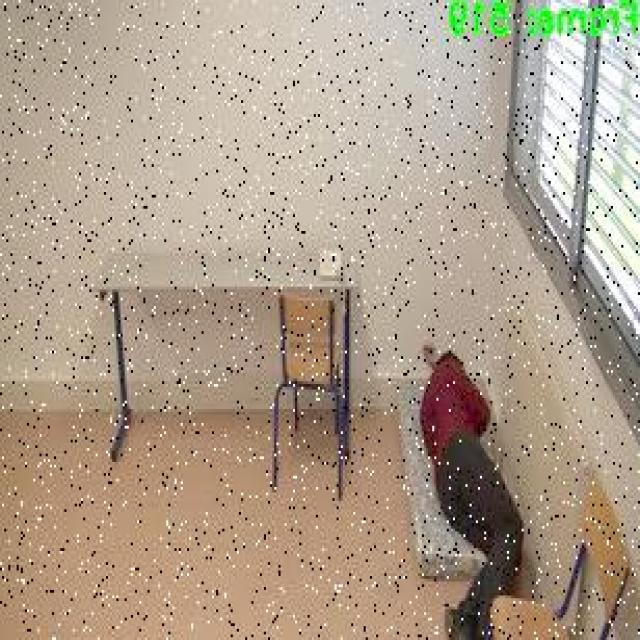fall: (413, 333, 532, 638)
